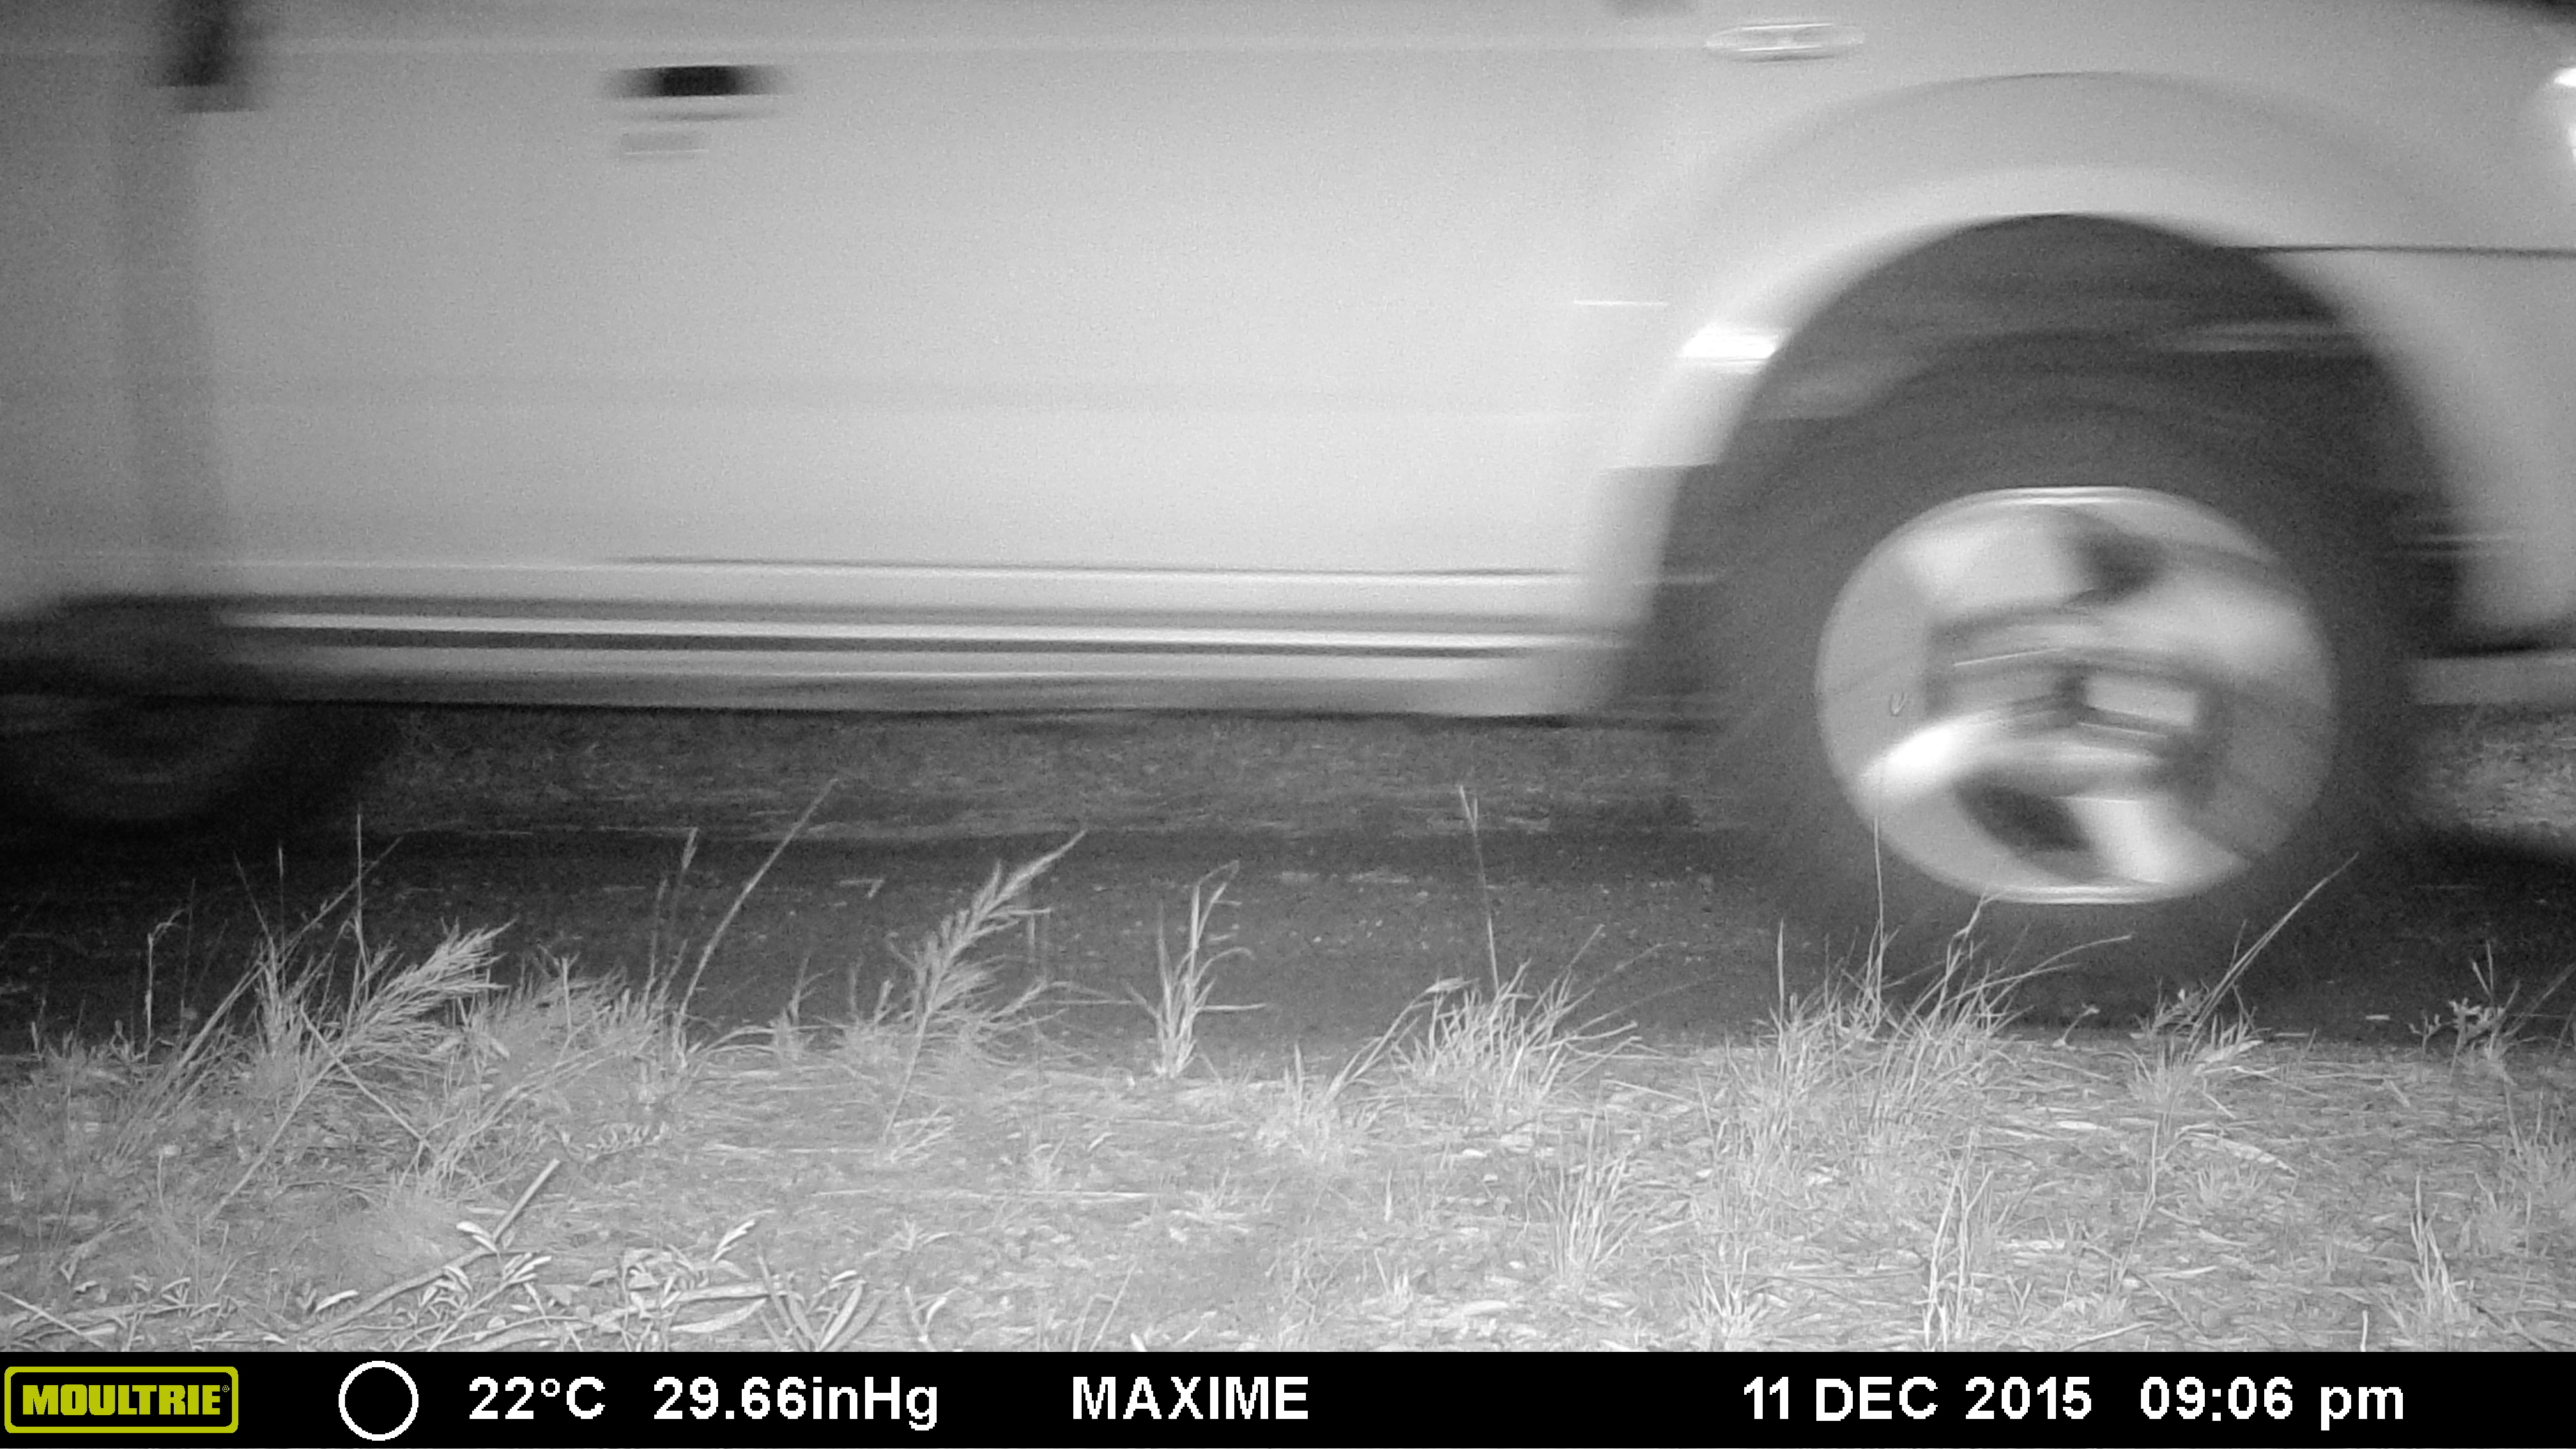Car: (2, 0, 2569, 1021)
